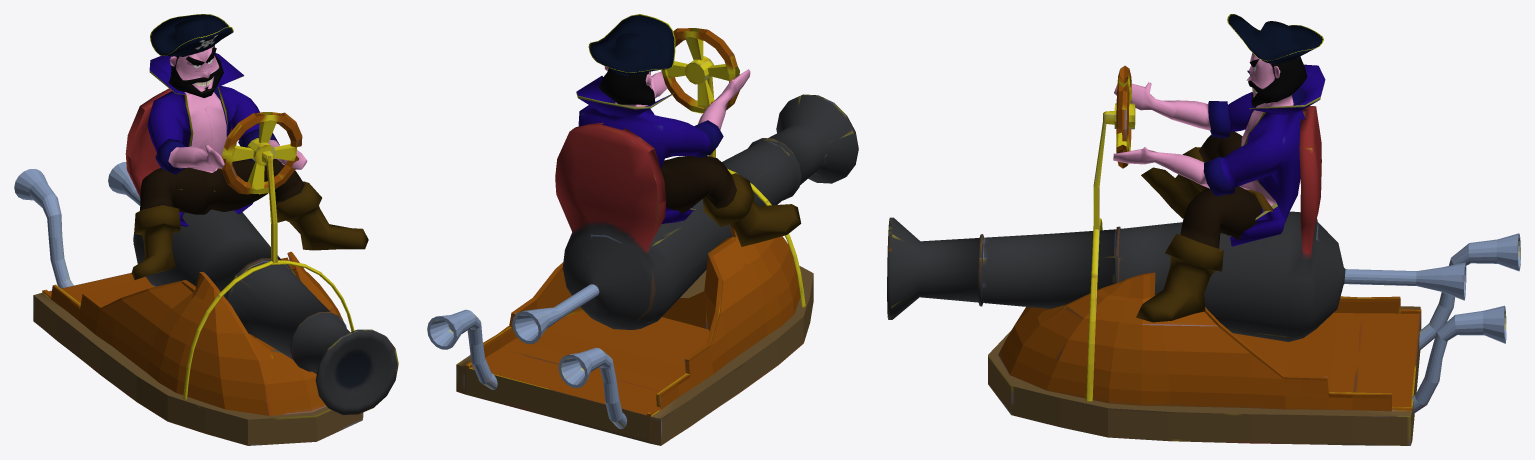
The model's file is pirataGiroDER_000570.obj.
The picture shows the model from 3 angles, left to right: view 1: azimuth 30°, elevation 25°; view 2: azimuth 150°, elevation 25°; view 3: azimuth 270°, elevation 25°; orthographic projection. The views are drawn at different scales.
Parts seen in each view (by area): view 1: carro_pirata, Pirata_PirataH; view 2: carro_pirata, Pirata_PirataH; view 3: carro_pirata, Pirata_PirataH.
Part boxes in pixels (box(x1,y1,x2,y2)): carro_pirata: box(14, 88, 398, 445); Pirata_PirataH: box(131, 14, 368, 280); carro_pirata: box(427, 28, 858, 445); Pirata_PirataH: box(576, 14, 801, 246); carro_pirata: box(887, 65, 1520, 445); Pirata_PirataH: box(1113, 14, 1325, 322).
Size of the model in its own units: 5.7 by 7.74 by 12.1.
2 materials, 2 textured.
